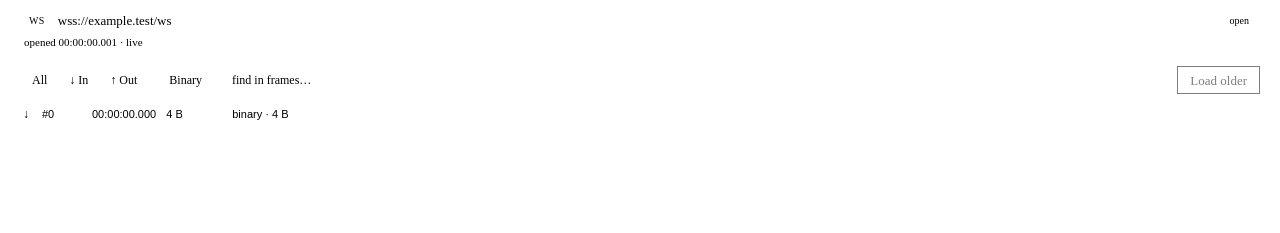
Test: FrameTimeline binary frames (U4) › an expanded binary frame shows its bytes as a hex dump via the frame body route
This screenshot has width=1280, height=233.
Click the button with test id "ws-frame-0" at coordinates (44, 121), box [8,100,1272,128]
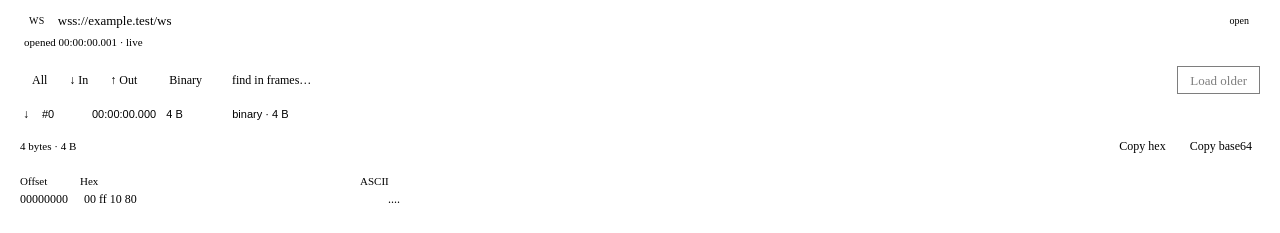
Result: the element with test id "frame-body-hex" is shown at [8,128,1272,216]
Result: the row with test id "hex-row" shows "00000000 00 ff 10 80" at [20,192,400,206]
